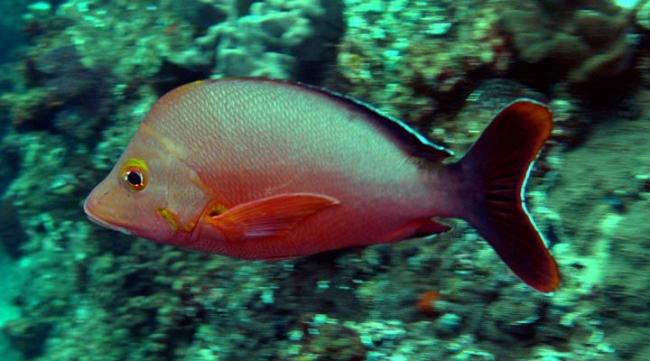fish: (83, 76, 564, 296)
